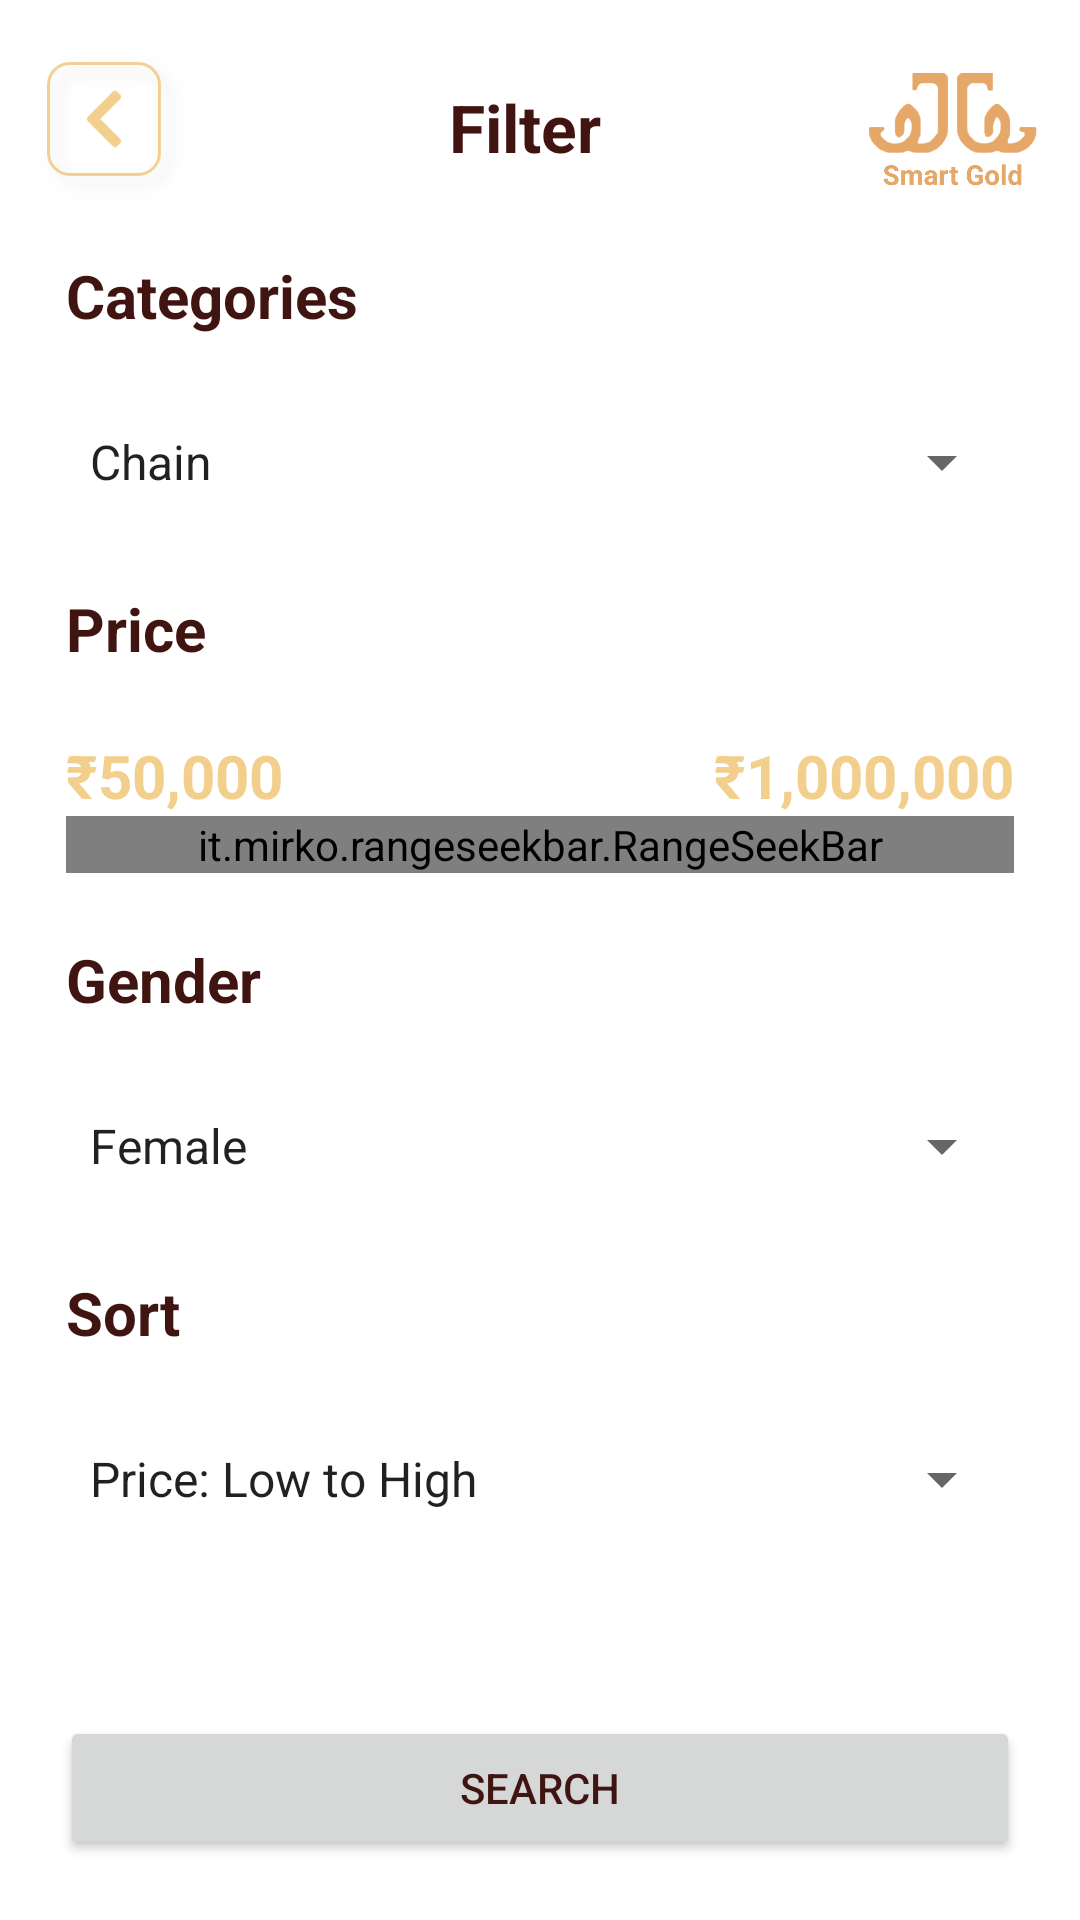

Where to tap for icons on this 1080 × 1920 app screen, as [x,y]:
backbtn: [104,119]
